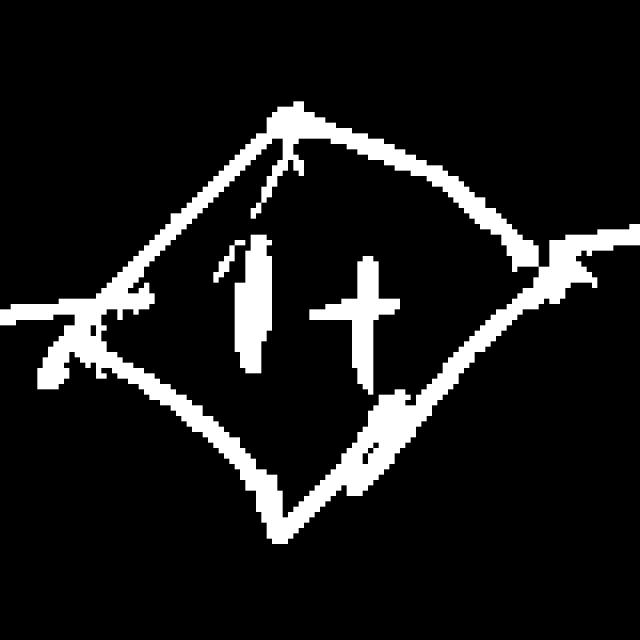dependant_voltage: (71, 103, 566, 549)
